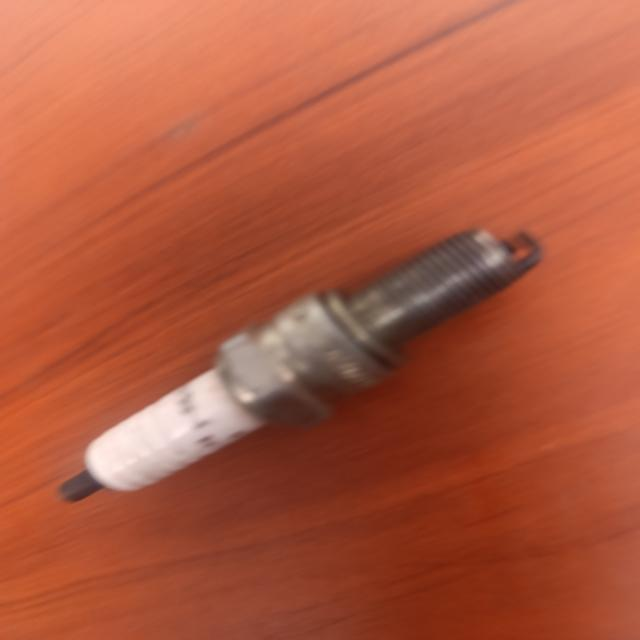Mause: (60, 230, 542, 502)
